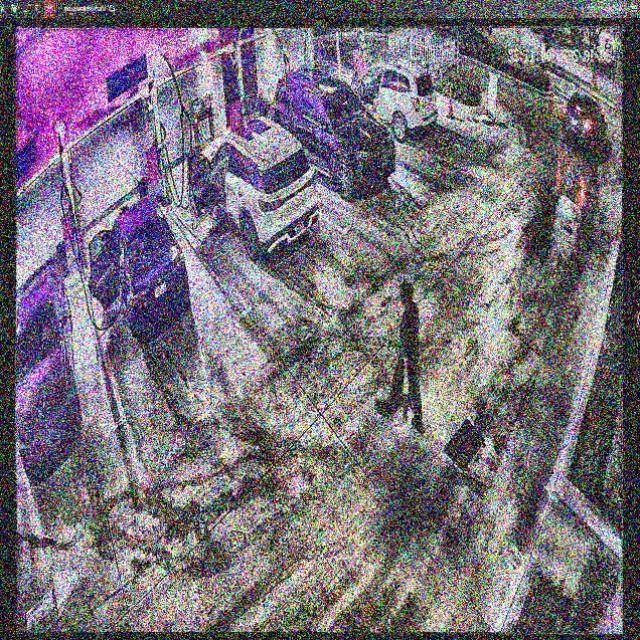Car: (187, 112, 317, 259), (270, 66, 392, 195), (92, 194, 187, 344)
